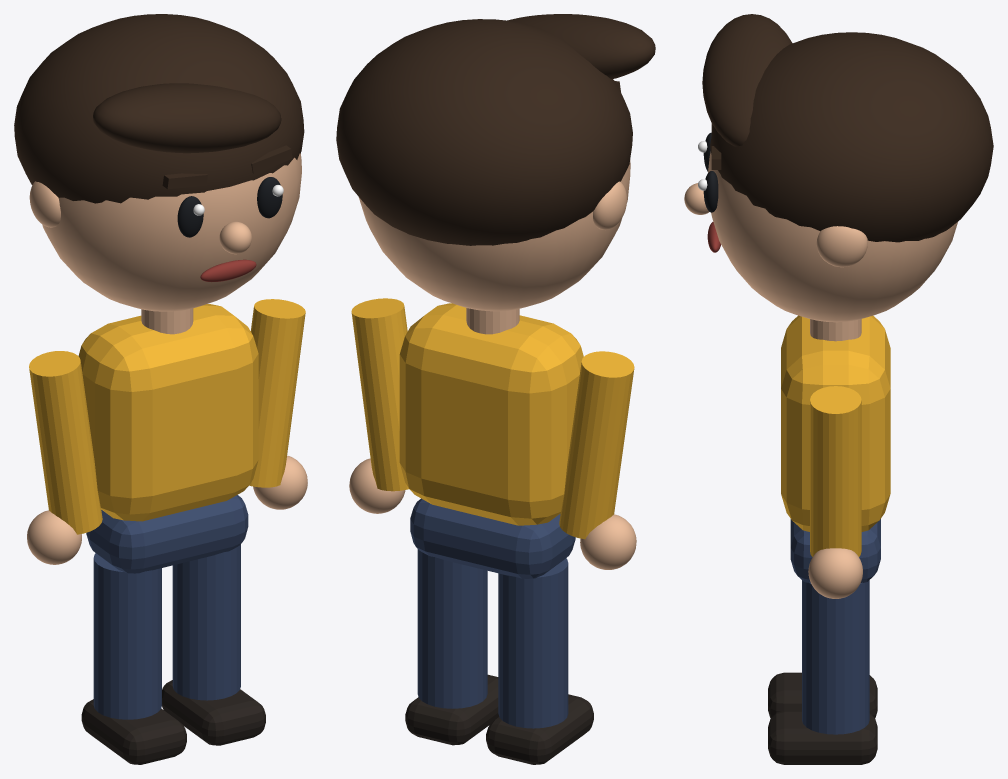
The model's file is persona_amarilla.glb.
The picture shows the model from 3 angles, left to right: view 1: azimuth 30°, elevation 25°; view 2: azimuth 150°, elevation 25°; view 3: azimuth 270°, elevation 25°; orthographic projection. The views are drawn at different scales.
Parts seen in each view (by area): view 1: Sphere.011, Cube.003, Sphere.002, Sphere.012, Cylinder, Cylinder.001, Cylinder.002, Cube.002, Cylinder.003, Cube, Cube.001, Sphere (+9 smaller); view 2: Sphere.011, Cube.003, Sphere.002, Cylinder, Cylinder.001, Cylinder.002, Cube.002, Cylinder.003, Sphere.012, Cube, Cube.001, Sphere (+3 smaller); view 3: Sphere.011, Sphere.002, Cube.003, Cylinder.001, Cylinder.003, Sphere.012, Cube.001, Sphere.001, Cube.002, Sphere.006, Cube, Cylinder.004 (+1 smaller).
Boxes of the visible parts, x1,y1,x2,y2 form: Sphere.011: (14,14,304,203); Cube.003: (78,304,258,521); Sphere.002: (42,153,301,311); Sphere.012: (93,83,281,153); Cylinder: (93,553,161,719); Cylinder.001: (172,544,240,700); Cylinder.002: (29,351,102,534); Cube.002: (86,495,248,573); Cylinder.003: (249,299,305,487); Cube: (81,699,186,764); Cube.001: (162,680,265,745); Sphere: (27,510,81,564); Sphere.011: (336,19,632,245); Cube.003: (399,303,583,525); Sphere.002: (358,160,630,311); Cylinder: (498,558,568,728); Cylinder.001: (417,549,487,708); Cylinder.002: (559,351,634,539); Cube.002: (410,498,575,578); Cylinder.003: (351,298,408,491); Sphere.012: (507,14,655,79); Cube: (486,694,593,764); Cube.001: (405,674,499,745); Sphere: (580,514,636,569); Sphere.011: (710,32,993,242); Sphere.002: (708,151,957,322); Cube.003: (781,315,890,531); Cylinder.001: (802,580,869,734); Cylinder.003: (810,386,861,556); Sphere.012: (702,14,792,146); Cube.001: (768,710,877,764); Sphere.001: (808,548,862,598); Cube.002: (790,519,880,582); Sphere.006: (816,226,867,267); Cube: (768,672,877,718); Cylinder.004: (810,319,861,341).
Bounding box in the file's own units: 0.97 × 2.35 × 0.96.
